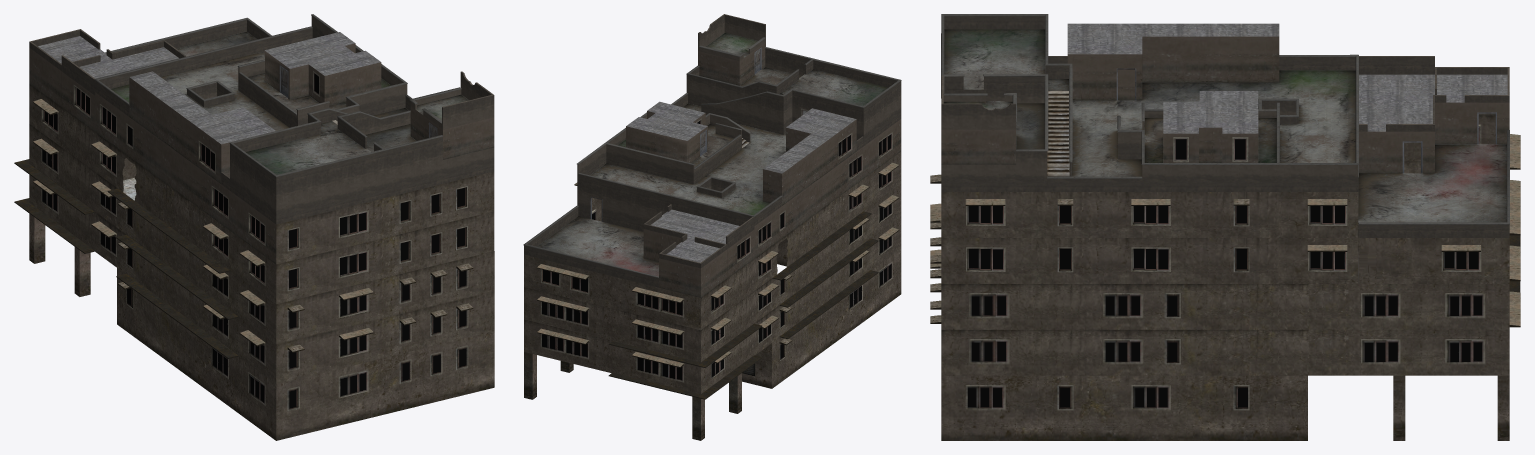
File: Apt2_Exterior.FBX
3 renders of one model, left to right at view 1: azimuth 30°, elevation 25°; view 2: azimuth 150°, elevation 25°; view 3: azimuth 270°, elevation 25°, orthographic. The views are drawn at different scales.
Visible parts, largest first — view 1: Apt2_Exterior; view 2: Apt2_Exterior; view 3: Apt2_Exterior.
Part boxes in pixels (<box>): Apt2_Exterior: <box>14,14,494,440</box>; Apt2_Exterior: <box>523,14,901,440</box>; Apt2_Exterior: <box>930,14,1520,440</box>.
Size of the model in its own units: 1986 by 2344 by 3728.
1 material, 1 textured.
